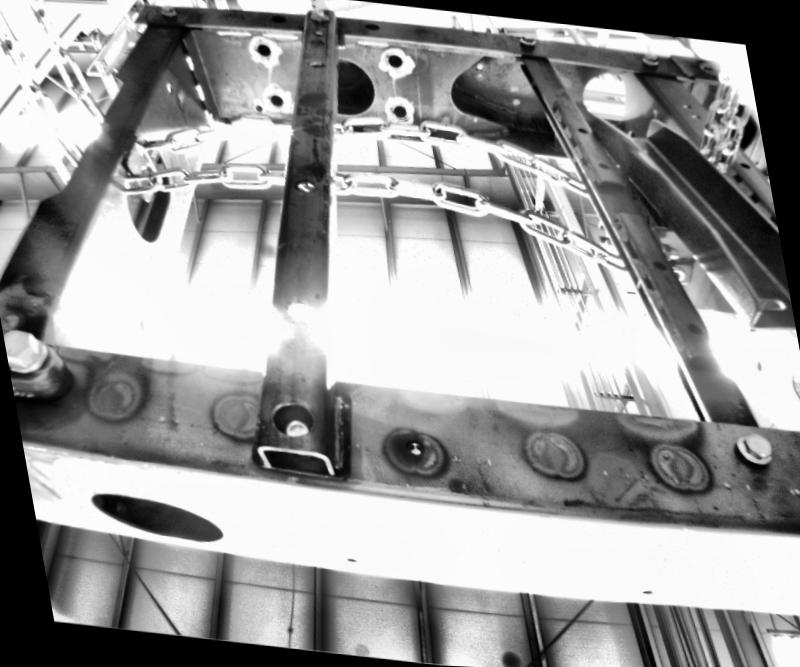bolt: (3, 326, 55, 382), (730, 430, 774, 468), (638, 53, 663, 68), (158, 3, 179, 20), (518, 32, 536, 48), (308, 7, 328, 21)
bracket: (118, 132, 169, 208)
hole: (79, 486, 240, 549), (572, 63, 644, 123), (268, 399, 317, 442), (404, 438, 428, 460), (290, 176, 320, 192), (388, 102, 411, 120), (384, 53, 406, 70), (266, 90, 286, 108), (303, 57, 328, 71), (253, 42, 274, 58), (268, 12, 289, 25), (686, 322, 702, 336), (652, 258, 668, 272), (362, 20, 382, 30), (738, 159, 752, 171), (342, 554, 358, 564), (596, 160, 610, 170), (576, 126, 590, 136), (688, 112, 702, 120), (164, 80, 172, 94), (640, 588, 652, 594), (682, 102, 692, 109), (255, 104, 263, 111), (475, 63, 482, 70), (770, 196, 773, 210)
welding: (193, 84, 207, 103), (182, 54, 194, 72), (201, 108, 212, 124)
